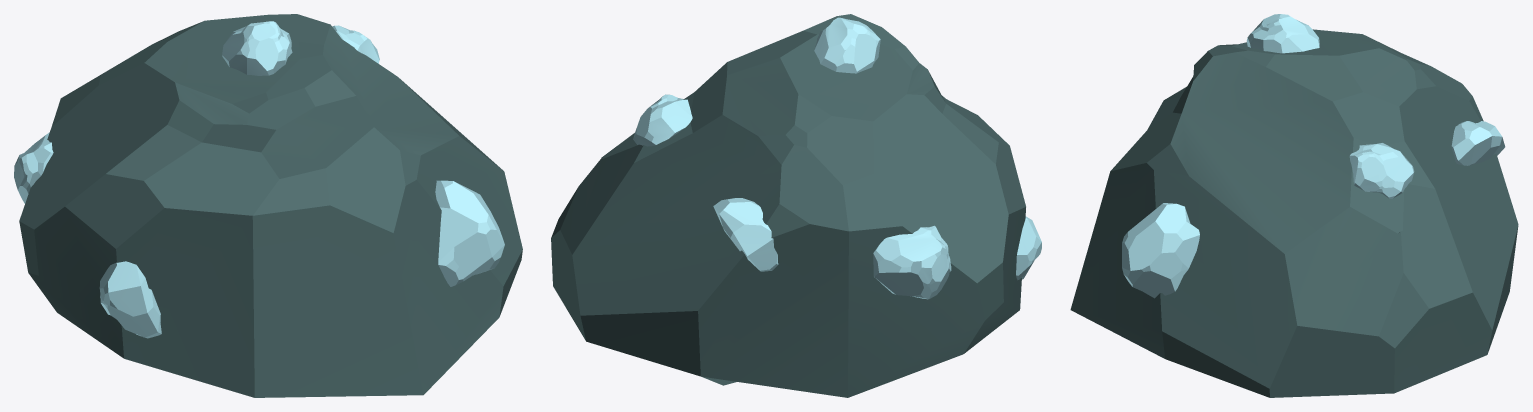
Rendered from Diamond2.fbx.
3 views of the same model, side by side, from view 1: azimuth 30°, elevation 25°; view 2: azimuth 150°, elevation 25°; view 3: azimuth 270°, elevation 25° (orthographic). The views are drawn at different scales.
Visible parts, largest first — view 1: Rock1, Nodes.001; view 2: Rock1, Nodes.001; view 3: Rock1, Nodes.001.
Part boxes in pixels (box(x1,y1,x2,y2)): Rock1: box(19, 14, 522, 397); Nodes.001: box(14, 21, 504, 338); Rock1: box(551, 14, 1025, 397); Nodes.001: box(633, 17, 1041, 299); Rock1: box(1070, 29, 1518, 397); Nodes.001: box(1122, 14, 1505, 298).
Bounding box in the file's own units: 173 × 116 × 163.
